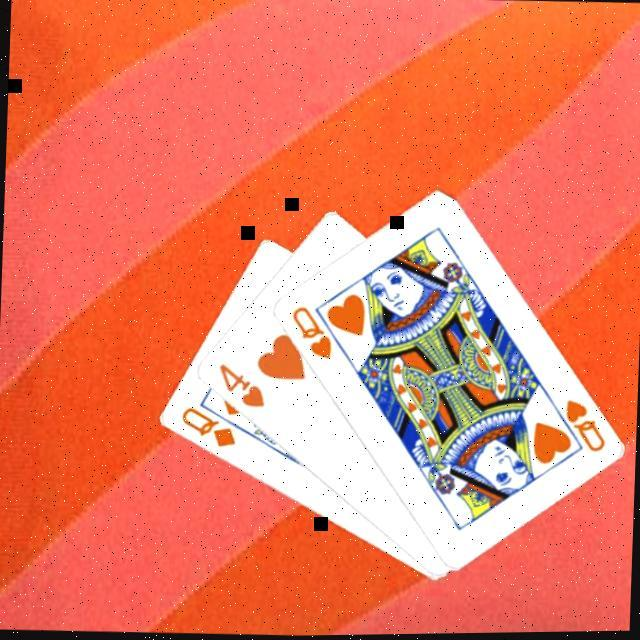4H: (214, 358, 270, 410)
QD: (178, 401, 242, 450)
QH: (546, 394, 611, 456), (288, 299, 338, 362)
